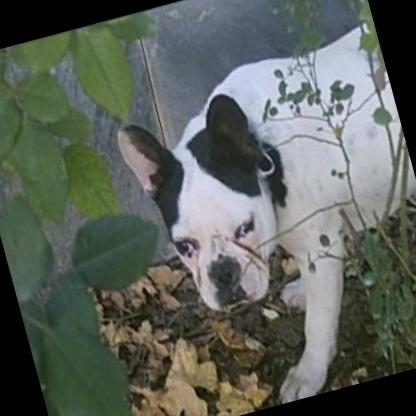French_bulldog: (102, 18, 416, 416)
